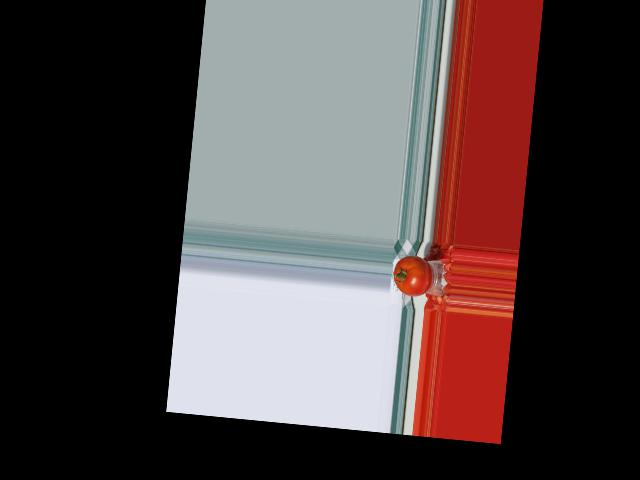tomato: (391, 253, 434, 299)
